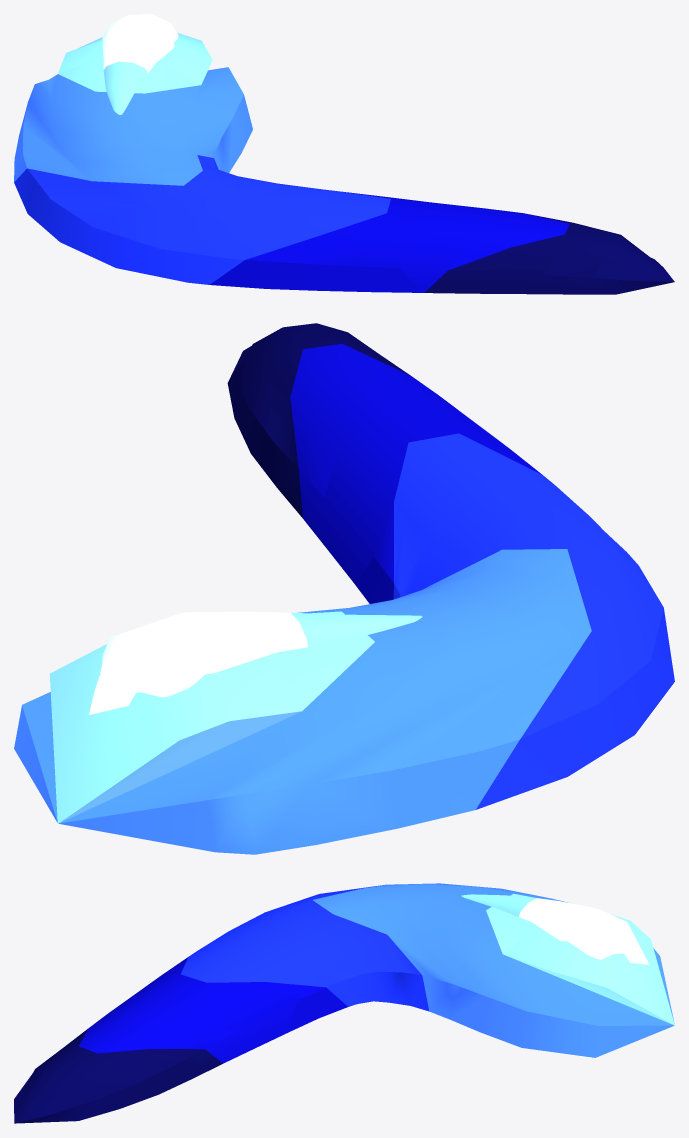
The model's file is shot_sidekick_wobbley_237.glb.
The picture shows the model from 3 angles, top to bottom: view 1: azimuth 30°, elevation 25°; view 2: azimuth 150°, elevation 25°; view 3: azimuth 270°, elevation 25°; orthographic projection. The views are drawn at different scales.
Parts seen in each view (by area): view 1: shot_sidekick_wobbley_237_bolt, shot_sidekick_wobbley_237_core; view 2: shot_sidekick_wobbley_237_bolt, shot_sidekick_wobbley_237_core; view 3: shot_sidekick_wobbley_237_bolt, shot_sidekick_wobbley_237_core.
Boxes of the visible parts, bbox=[...] form: shot_sidekick_wobbley_237_bolt: bbox=[14, 32, 674, 294]; shot_sidekick_wobbley_237_core: bbox=[102, 14, 178, 114]; shot_sidekick_wobbley_237_bolt: bbox=[14, 323, 674, 854]; shot_sidekick_wobbley_237_core: bbox=[89, 611, 422, 714]; shot_sidekick_wobbley_237_bolt: bbox=[14, 883, 674, 1123]; shot_sidekick_wobbley_237_core: bbox=[461, 894, 649, 964].
Bounding box in the file's own units: 7.4 × 1.7 × 10.4.
